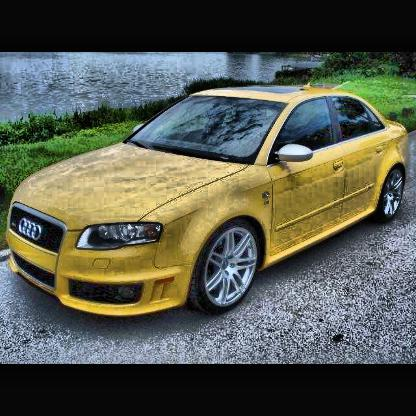Audi S4 Sedan 2007: (9, 86, 410, 318)
